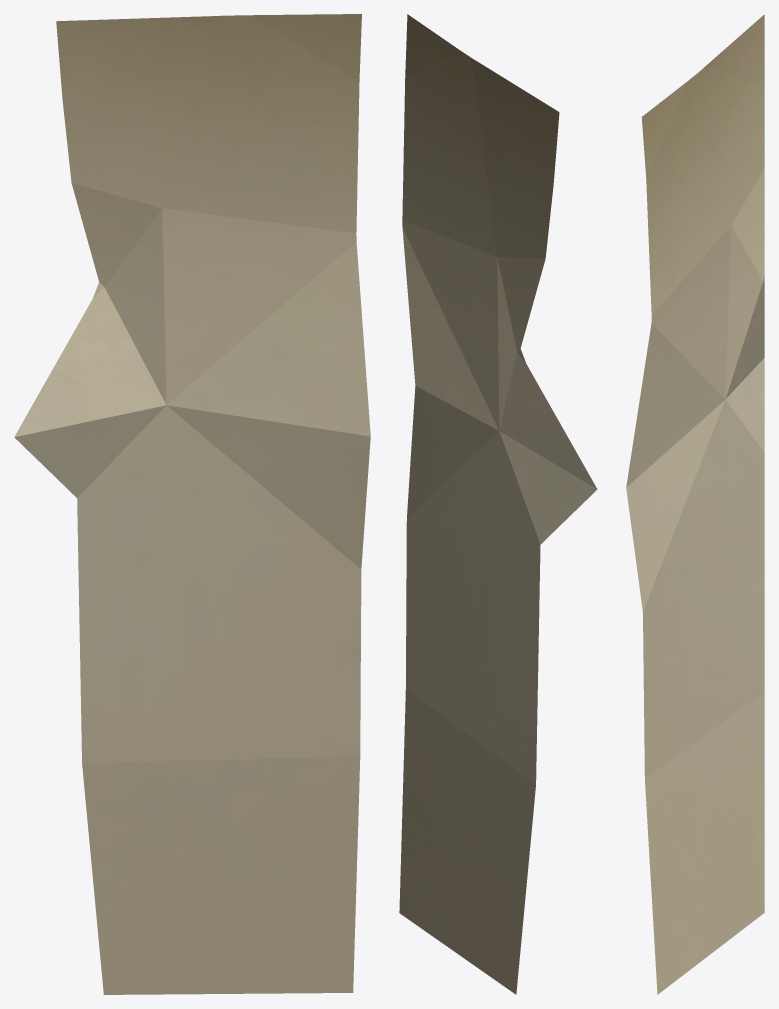
3 views of the same model, side by side, from view 1: azimuth 30°, elevation 25°; view 2: azimuth 150°, elevation 25°; view 3: azimuth 270°, elevation 25° (orthographic). The views are drawn at different scales.
Bounding box in the file's own units: 0.2479 × 0.8374 × 0.1198.
Materials: 1 (1 with a texture image).
